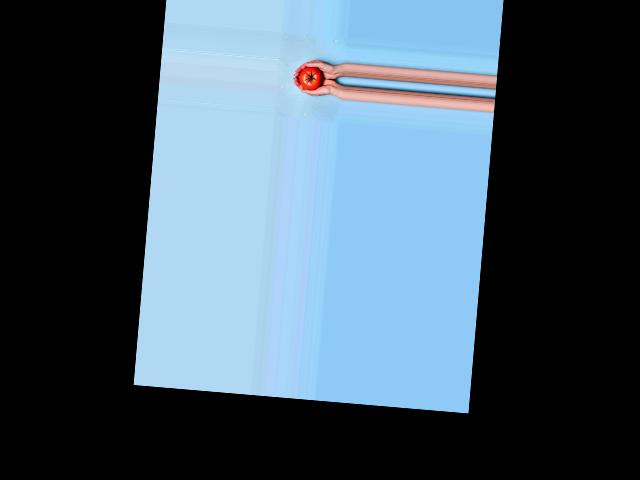tomato: (298, 65, 323, 90)
